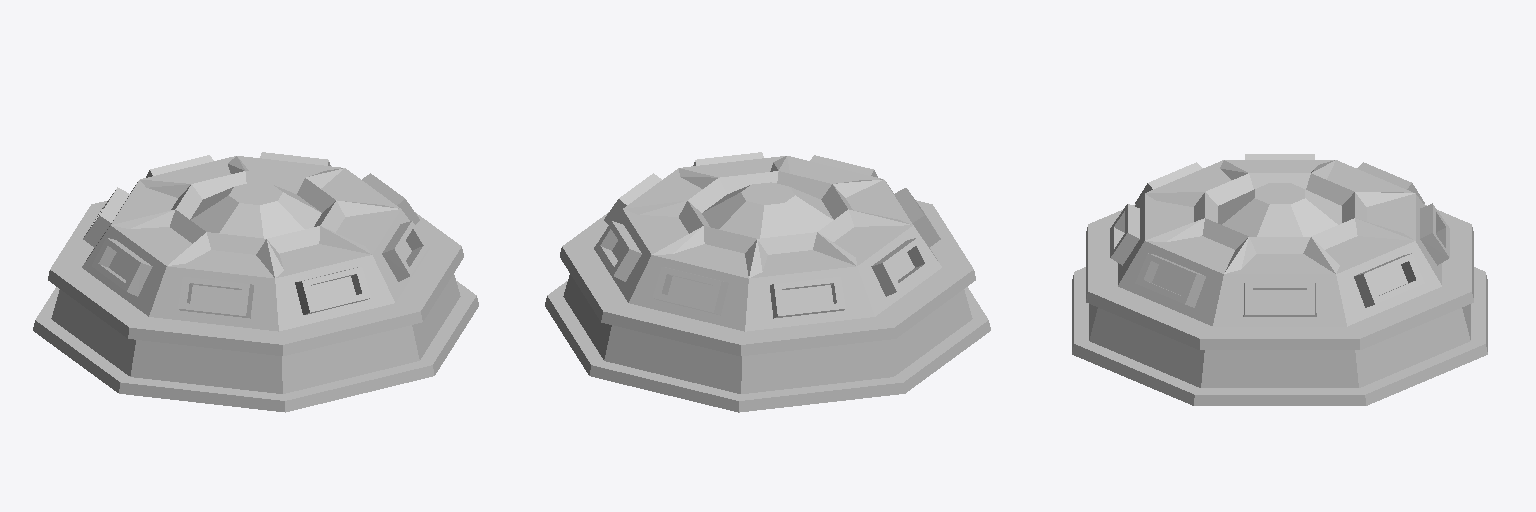
File: Tower Base.obj
The picture shows the model from 3 angles: view 1: azimuth 30°, elevation 25°; view 2: azimuth 150°, elevation 25°; view 3: azimuth 270°, elevation 25°; orthographic projection.
Parts seen in each view (by area): view 1: TowerBase_Cylinder.001; view 2: TowerBase_Cylinder.001; view 3: TowerBase_Cylinder.001.
Part boxes in pixels (left/top/right/bottom): TowerBase_Cylinder.001: left=33, top=152, right=478, bottom=412; TowerBase_Cylinder.001: left=545, top=152, right=990, bottom=412; TowerBase_Cylinder.001: left=1072, top=154, right=1487, bottom=405.
Size of the model in its own units: 2 by 0.661 by 2.